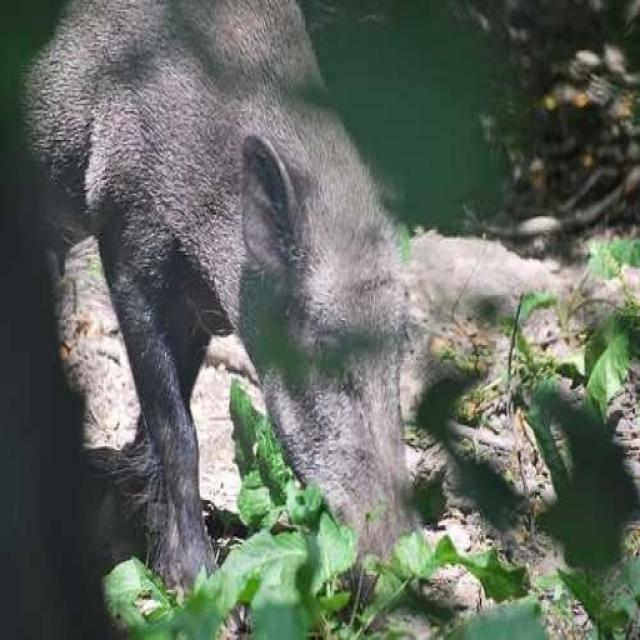pig: (24, 0, 488, 546)
